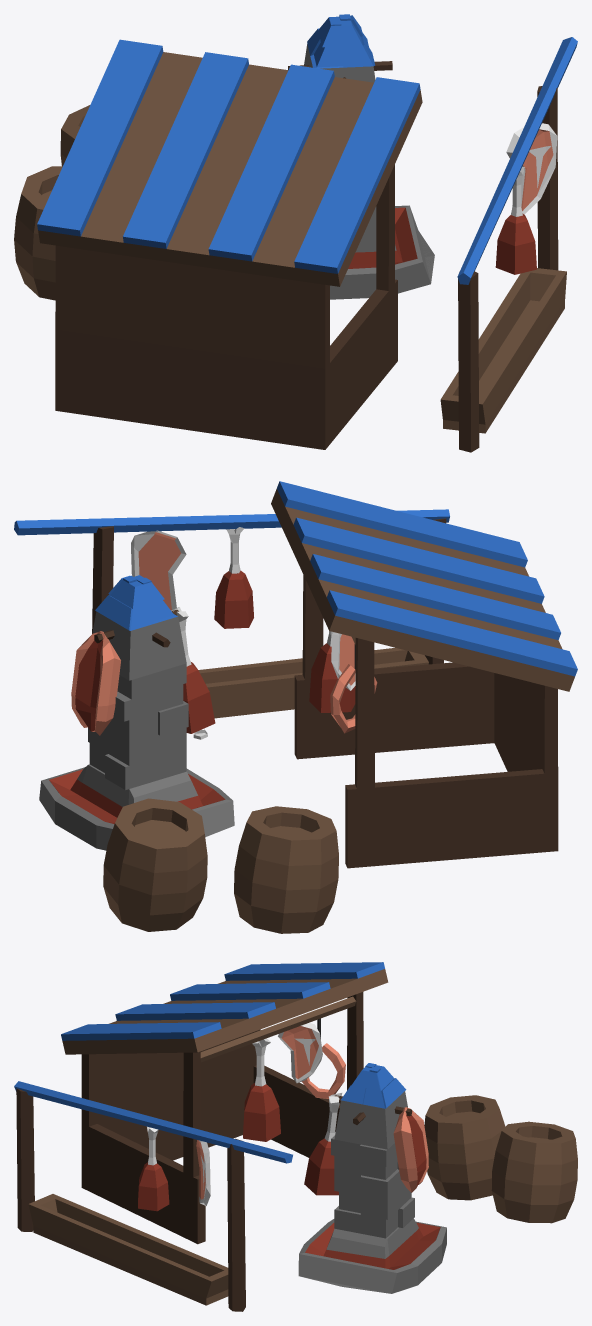
File: Butcher_LvL2.fbx
3 views of the same model, one above another, from view 1: azimuth 30°, elevation 25°; view 2: azimuth 150°, elevation 25°; view 3: azimuth 270°, elevation 25° (orthographic). The views are drawn at different scales.
Parts seen in each view (by area): view 1: Holz 2, teamcolor.001, Holz 1.001, Stein.001, Fleisch dunkel.001, Knochen/weiss, Fleisch hell.002; view 2: Holz 2, teamcolor.001, Holz 1.001, Stein.001, Fleisch dunkel.001, Fleisch hell.002, Knochen/weiss; view 3: Holz 2, Holz 1.001, teamcolor.001, Stein.001, Fleisch dunkel.001, Fleisch hell.002, Knochen/weiss.
Boxes of the visible parts, <box> form: Holz 2: <box>38,52,558,452</box>; teamcolor.001: <box>37,14,577,284</box>; Holz 1.001: <box>14,105,566,433</box>; Stein.001: <box>304,44,434,299</box>; Fleisch dunkel.001: <box>348,207,536,274</box>; Knochen/weiss: <box>506,123,557,216</box>; Fleisch hell.002: <box>521,129,553,210</box>; Holz 2: <box>92,489,574,868</box>; teamcolor.001: <box>14,481,577,676</box>; Holz 1.001: <box>103,647,428,933</box>; Stein.001: <box>39,611,234,850</box>; Fleisch dunkel.001: <box>49,570,355,824</box>; Fleisch hell.002: <box>71,532,377,735</box>; Knochen/weiss: <box>131,527,355,739</box>; Holz 2: <box>16,969,412,1311</box>; Holz 1.001: <box>28,1095,577,1305</box>; teamcolor.001: <box>14,962,406,1163</box>; Stein.001: <box>298,1091,446,1293</box>; Fleisch dunkel.001: <box>138,1083,440,1269</box>; Fleisch hell.002: <box>196,1026,428,1199</box>; Knochen/weiss: <box>147,1022,342,1205</box>.
Size of the model in its own units: 159 by 77.54 by 174.
